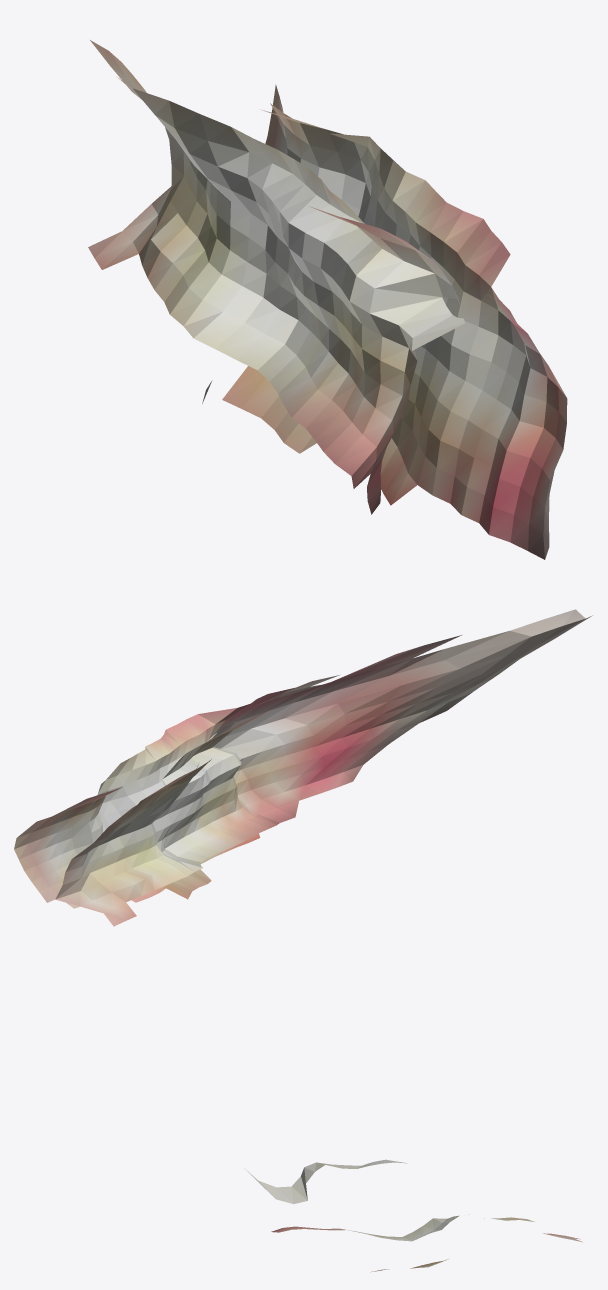
The model's file is entity-signal-light-7.glb.
3 renders of one model, top to bottom at view 1: azimuth 30°, elevation 25°; view 2: azimuth 150°, elevation 25°; view 3: azimuth 270°, elevation 25°, orthographic. The views are drawn at different scales.
Visible parts, largest first — view 1: geometry_0; view 2: geometry_0; view 3: geometry_0.
Boxes of the visible parts, x1,y1,x2,y2 form: geometry_0: (88,40,567,559); geometry_0: (14,609,592,926); geometry_0: (244,1159,582,1272).
Size of the model in its own units: 0.2566 by 0.1637 by 0.4034.
